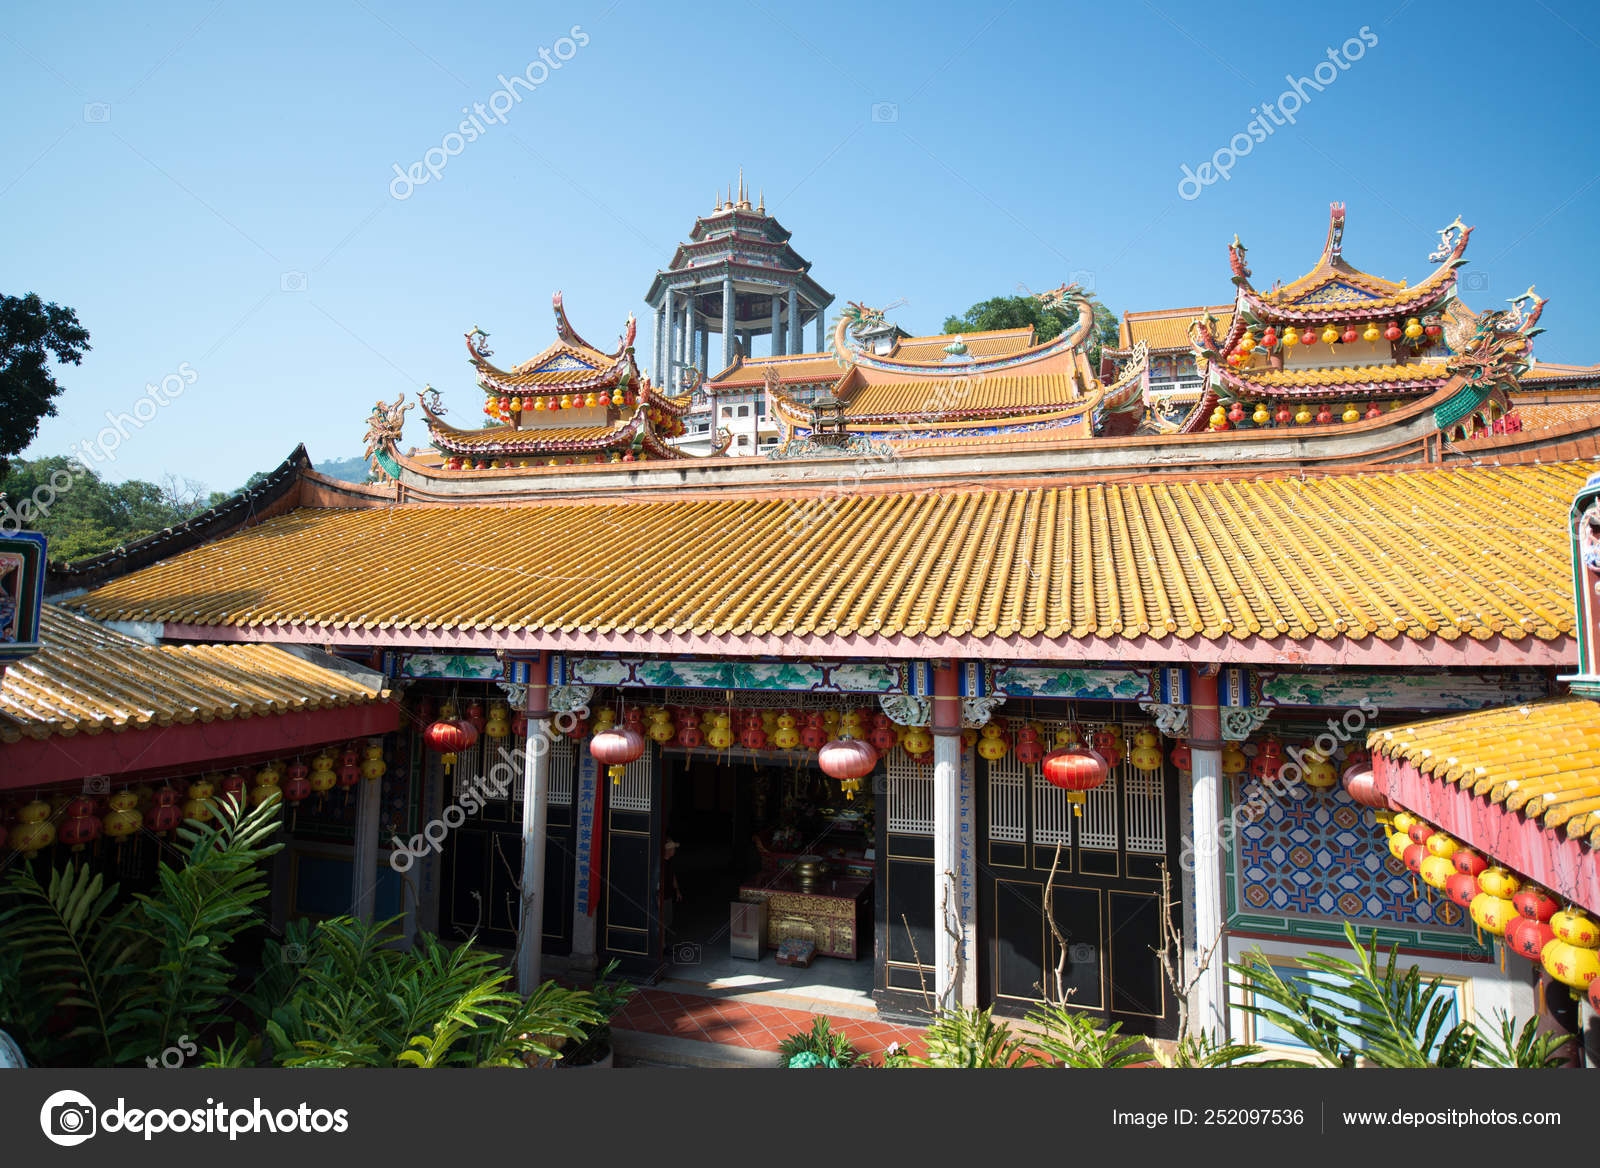Buddhist Temple: (170, 153, 1573, 957)
